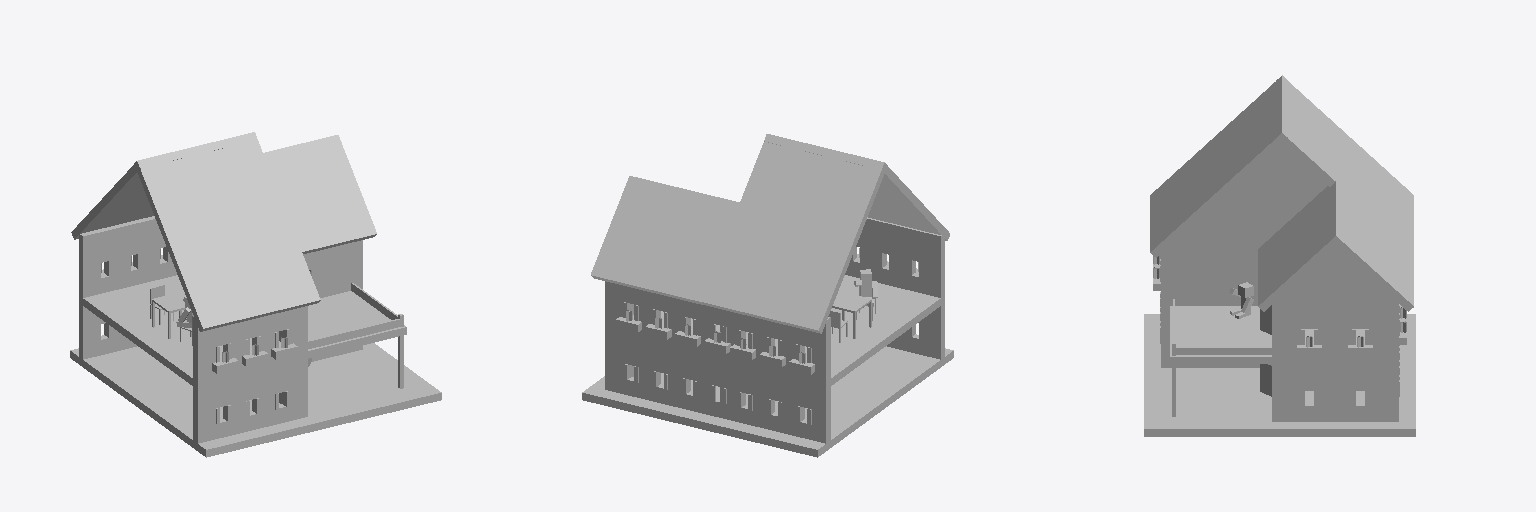
File: 1222_dollhouse1.obj
3 views of the same model, side by side, from view 1: azimuth 30°, elevation 25°; view 2: azimuth 150°, elevation 25°; view 3: azimuth 270°, elevation 25° (orthographic).
Parts seen in each view (by area): view 1: roof, 1st Floor, 2nd floor, roof3, roof2, FrontWall, FrontWall14, BackWall6, FrontWall3, FrontWall4, BackWall5, FrontWall5 (+3 smaller); view 2: roof2, roof4, 1st Floor, 2nd floor, roof, FrontWall, BackWall6, BackWall30, BackWall5, BackWall27, BackWall3, BackWall28 (+5 smaller); view 3: 1st Floor, roof, roof2, SideWall2, roof3, roof4, SideWall6, 2nd floor, SideWall, SideWall3, BackWall30, FrontWall14 (+14 smaller).
Part boxes in pixels (bbox=[...]): roof: bbox=[134, 132, 320, 331]; 1st Floor: bbox=[70, 343, 441, 457]; 2nd floor: bbox=[83, 275, 406, 385]; roof3: bbox=[263, 135, 376, 253]; roof2: bbox=[71, 132, 257, 239]; FrontWall: bbox=[193, 317, 219, 443]; FrontWall14: bbox=[309, 240, 362, 361]; BackWall6: bbox=[79, 230, 100, 359]; FrontWall3: bbox=[223, 320, 248, 436]; FrontWall4: bbox=[252, 313, 278, 428]; BackWall5: bbox=[104, 222, 130, 352]; FrontWall5: bbox=[282, 308, 300, 421]; roof2: bbox=[701, 134, 887, 333]; roof4: bbox=[591, 176, 739, 304]; 1st Floor: bbox=[582, 346, 953, 457]; 2nd floor: bbox=[633, 275, 940, 385]; roof: bbox=[764, 134, 949, 240]; FrontWall: bbox=[919, 230, 944, 359]; BackWall6: bbox=[808, 317, 830, 443]; BackWall30: bbox=[605, 281, 631, 394]; BackWall5: bbox=[778, 323, 804, 437]; BackWall27: bbox=[664, 296, 690, 408]; BackWall3: bbox=[749, 316, 774, 429]; BackWall28: bbox=[635, 289, 660, 401]; 1st Floor: bbox=[1144, 314, 1415, 436]; roof: bbox=[1150, 75, 1287, 257]; roof2: bbox=[1276, 76, 1413, 251]; SideWall2: bbox=[1161, 249, 1271, 367]; roof3: bbox=[1258, 182, 1341, 311]; roof4: bbox=[1332, 182, 1413, 311]; SideWall6: bbox=[1314, 299, 1355, 421]; 2nd floor: bbox=[1170, 306, 1364, 363]; SideWall: bbox=[1365, 299, 1389, 421]; SideWall3: bbox=[1280, 299, 1304, 421]; BackWall30: bbox=[1390, 299, 1398, 421]; FrontWall14: bbox=[1272, 299, 1279, 421].
Bounding box in the file's own units: 2 × 2 × 2.